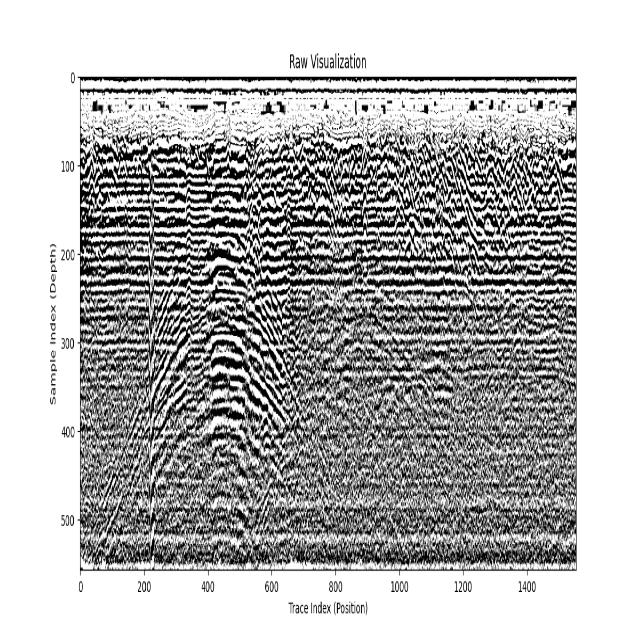anomaly: (88, 221, 372, 567), (307, 310, 444, 476)
